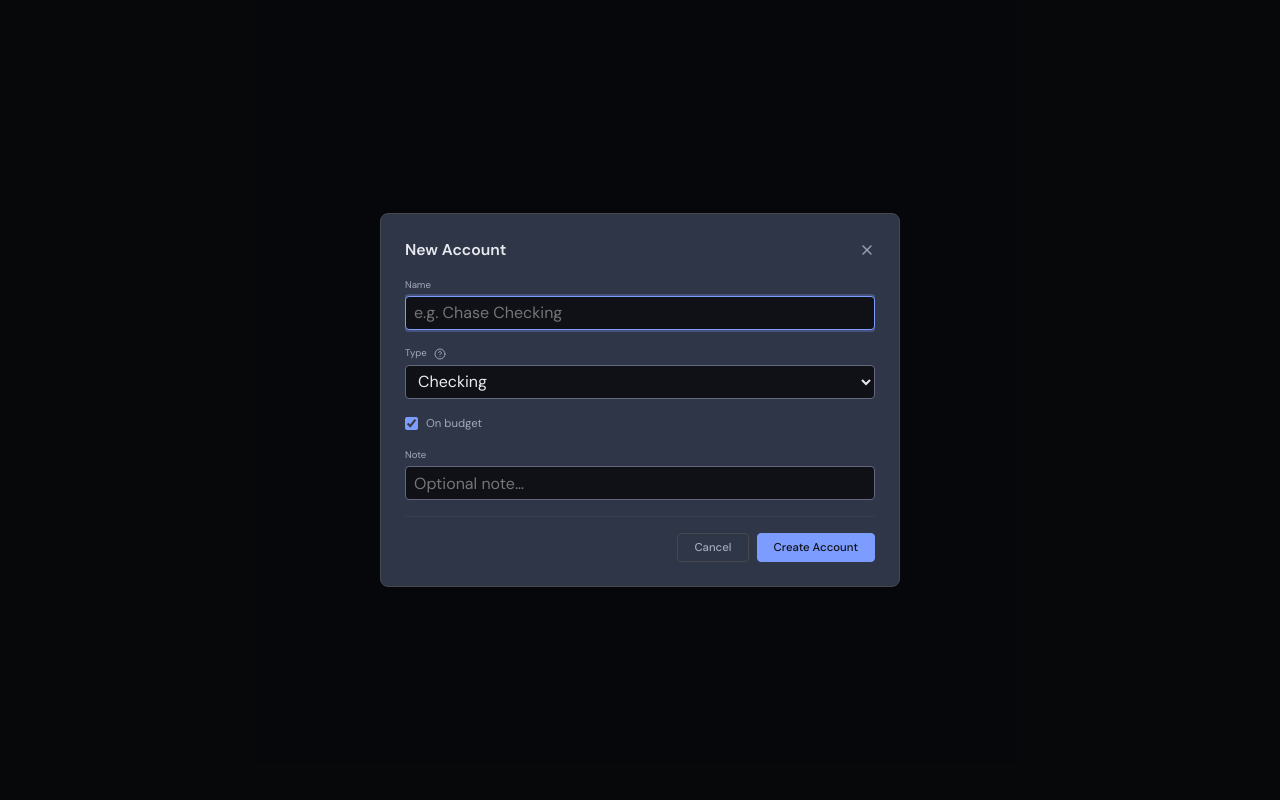
Test: AddAccountModal submit › stays enabled with no name and asks for one on submit
Click the button "Create Account" at (816, 548), box [756,533,875,562]
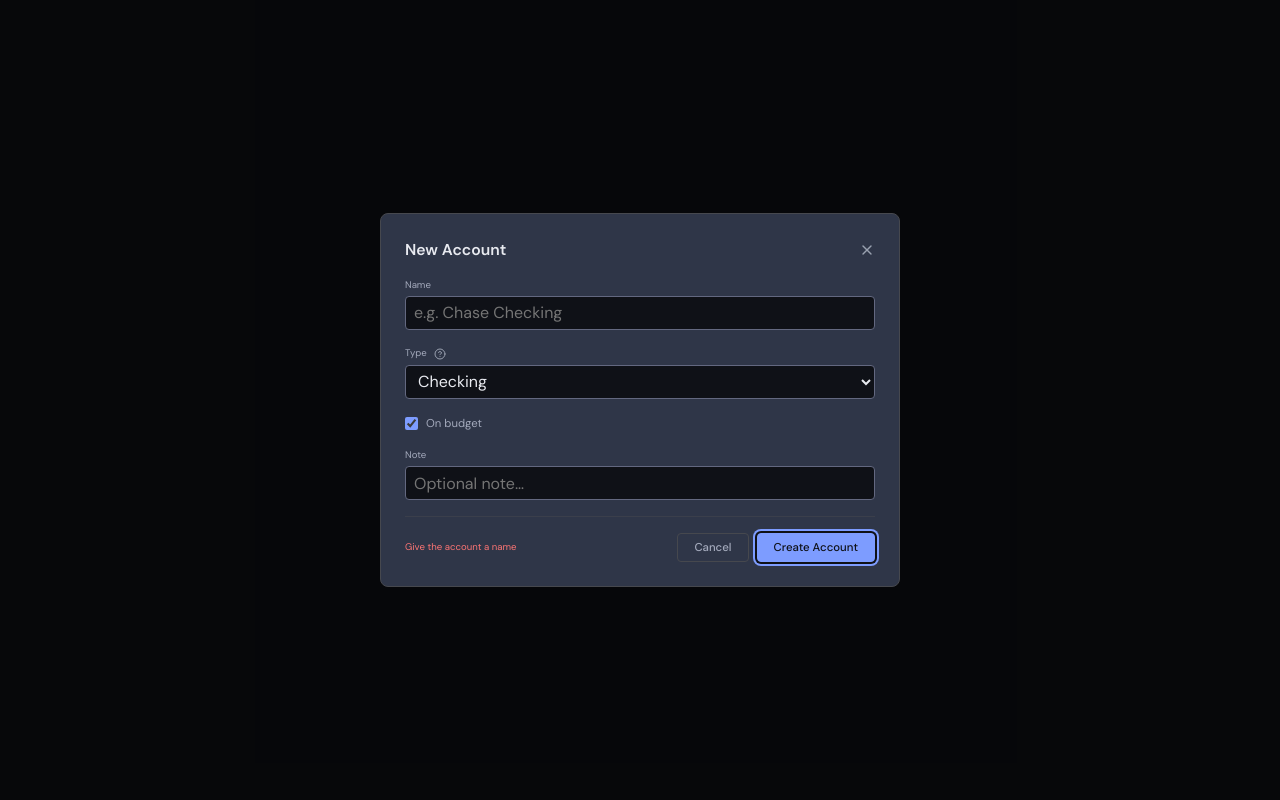
Check: the text "Give the account a name" is shown, box [405,540,516,555]
